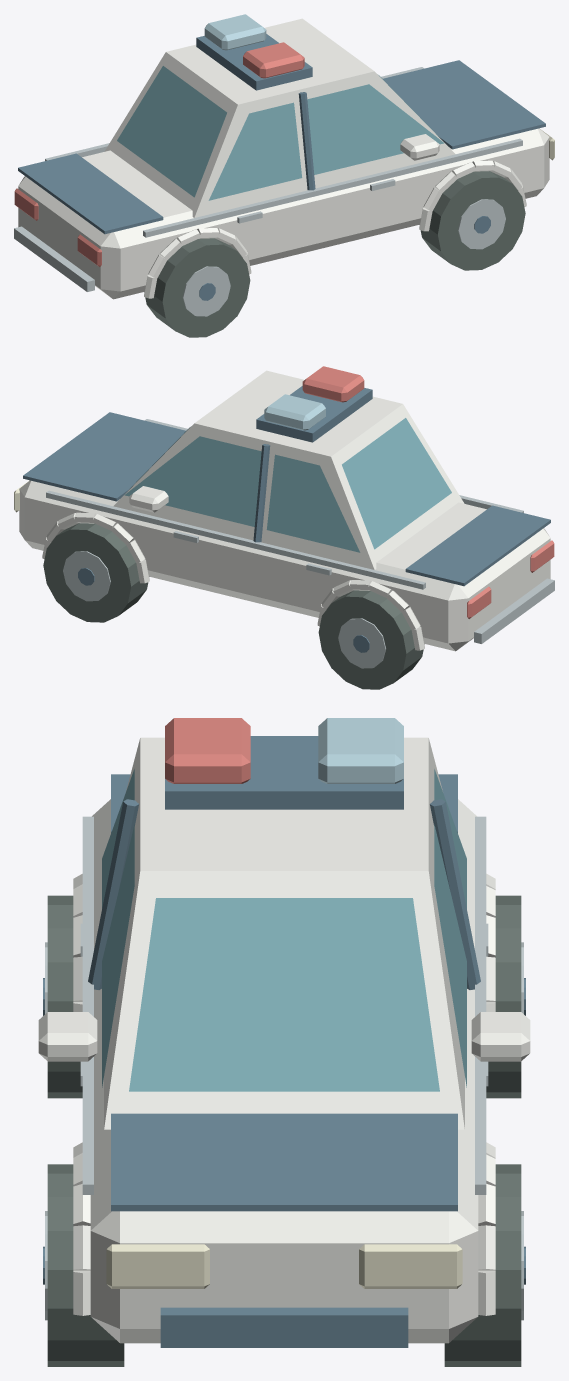
The model's file is police-car.glb.
3 renders of one model, top to bottom at view 1: azimuth 30°, elevation 25°; view 2: azimuth 150°, elevation 25°; view 3: azimuth 270°, elevation 25°, orthographic. The views are drawn at different scales.
Parts seen in each view (by area): view 1: police-car_white, police-car_glass; view 2: police-car_white, police-car_glass; view 3: police-car_white, police-car_glass.
Boxes of the visible parts, x1,y1,x2,y2 form: police-car_white: [14, 14, 554, 337]; police-car_glass: [117, 66, 444, 200]; police-car_white: [14, 366, 554, 689]; police-car_glass: [124, 418, 451, 552]; police-car_white: [38, 718, 530, 1366]; police-car_glass: [102, 769, 466, 1091].
Size of the model in its own units: 2.39 by 1.12 by 1.09.
Materials: 2 (2 with a texture image).
